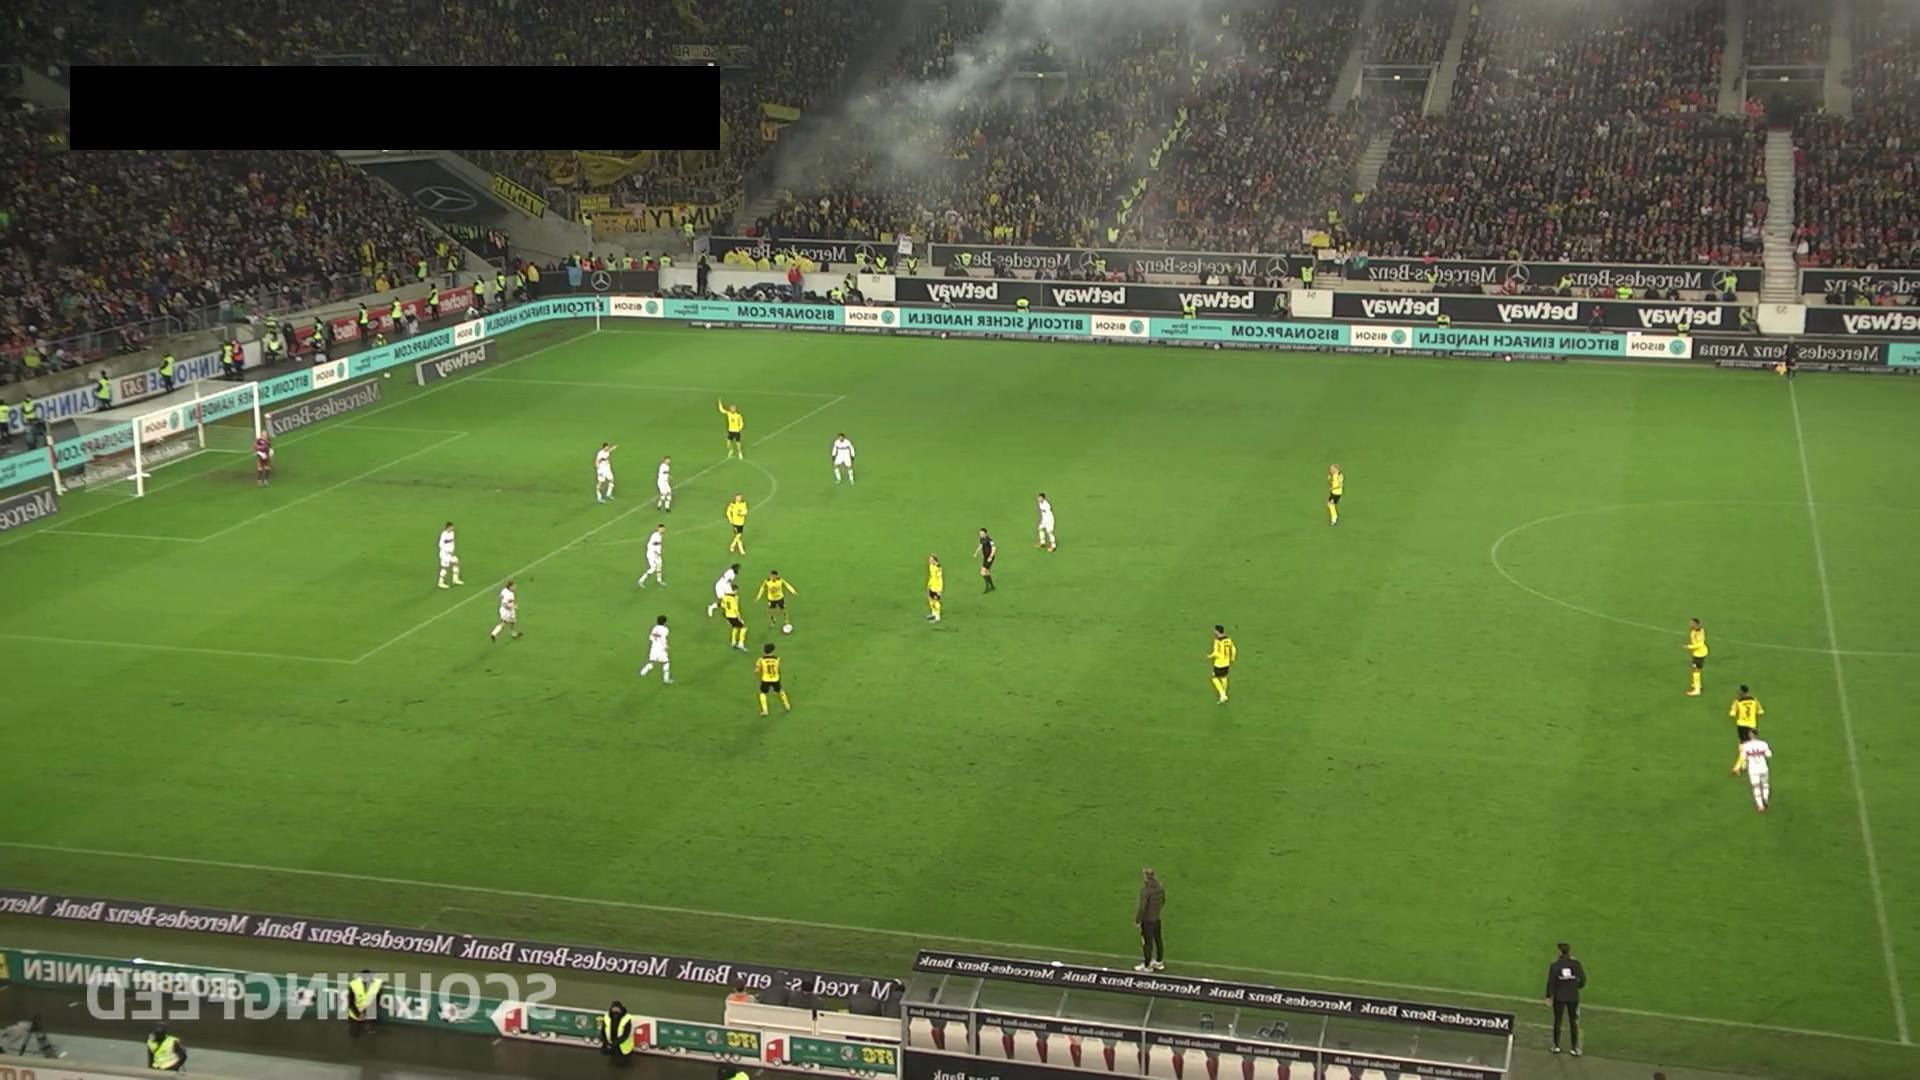ball: (781, 622, 795, 637)
goalkeeper: (253, 430, 279, 491)
player: (1730, 728, 1773, 813), (1727, 683, 1765, 776), (753, 641, 791, 718), (753, 569, 798, 633), (637, 614, 675, 685), (1206, 624, 1237, 704), (489, 578, 523, 643), (636, 522, 668, 589), (1682, 617, 1709, 696), (718, 585, 749, 651), (436, 520, 463, 588), (710, 563, 743, 616), (718, 399, 746, 460), (725, 492, 749, 554), (594, 441, 618, 503), (831, 431, 856, 486), (924, 555, 944, 622), (1035, 492, 1057, 552), (1325, 464, 1344, 526), (656, 455, 673, 511)
referee: (972, 528, 997, 594), (1773, 334, 1802, 381)
